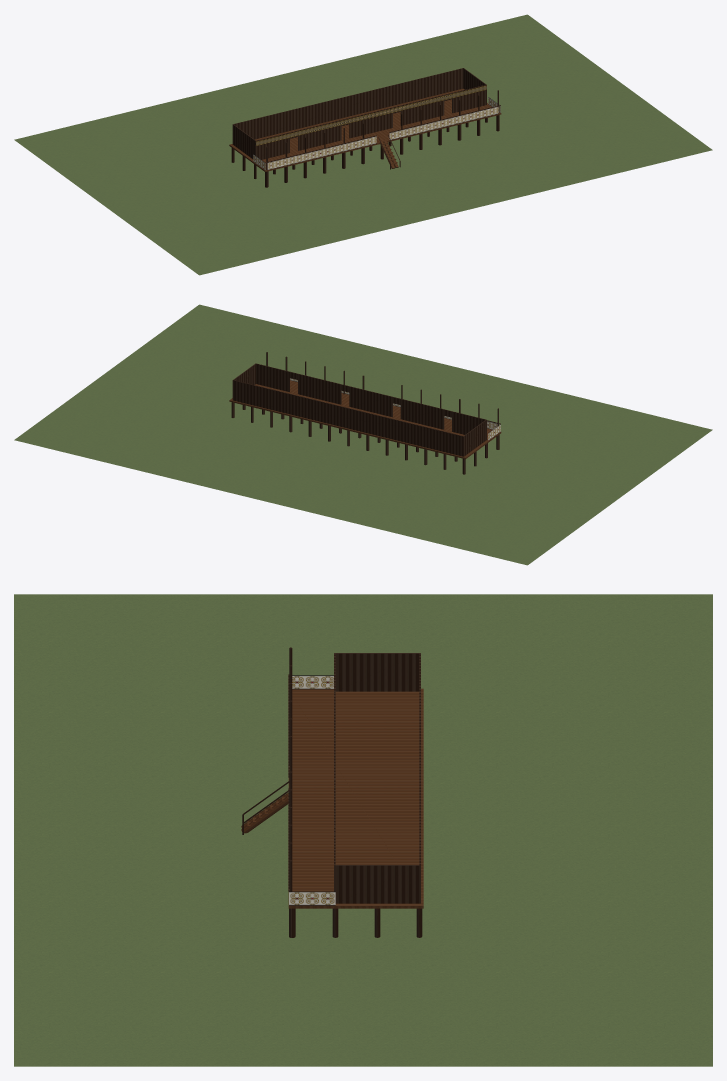
Rendered from eksterior.glb.
The picture shows the model from 3 angles, top to bottom: view 1: azimuth 30°, elevation 25°; view 2: azimuth 150°, elevation 25°; view 3: azimuth 270°, elevation 25°; orthographic projection. The views are drawn at different scales.
Parts seen in each view (by area): view 1: Tanah, Dinding, Lantai, Pagar_Beranda, Tiang, Panel_Motif_Dinding, Pagar_Rangka; view 2: Tanah, Dinding, Lantai, Tiang; view 3: Tanah, Lantai, Dinding, Pagar_Beranda, Pagar_Rangka, Tiang.
Boxes of the visible parts, bbox=[...] form: Tanah: bbox=[14, 14, 712, 275]; Dinding: bbox=[232, 68, 486, 159]; Lantai: bbox=[229, 88, 501, 171]; Pagar_Beranda: bbox=[253, 97, 500, 169]; Tiang: bbox=[231, 115, 499, 187]; Panel_Motif_Dinding: bbox=[255, 85, 486, 145]; Pagar_Rangka: bbox=[265, 90, 500, 169]; Tanah: bbox=[14, 304, 712, 565]; Dinding: bbox=[232, 363, 486, 456]; Lantai: bbox=[229, 380, 501, 459]; Tiang: bbox=[231, 402, 499, 474]; Tanah: bbox=[14, 594, 712, 1066]; Lantai: bbox=[288, 688, 423, 908]; Dinding: bbox=[334, 653, 420, 903]; Pagar_Beranda: bbox=[289, 675, 335, 905]; Pagar_Rangka: bbox=[288, 647, 292, 891]; Tiang: bbox=[289, 908, 422, 937].
Size of the model in its own units: 80 by 6.18 by 50.
5 materials, 5 textured.
